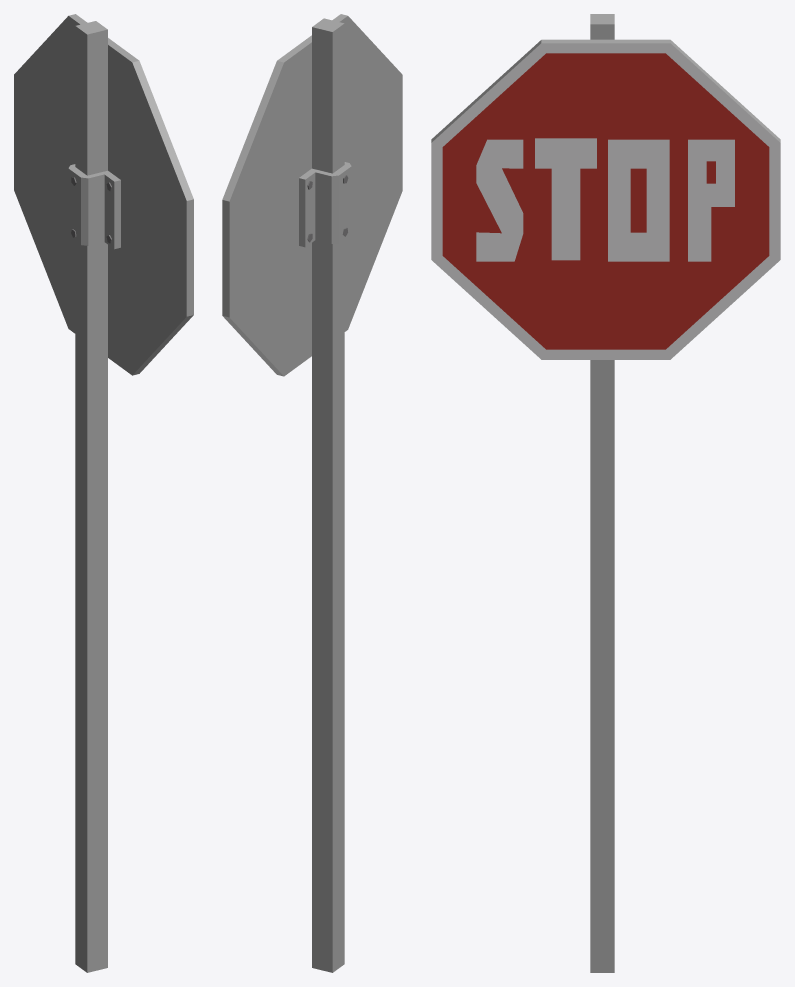
File: SM_road_sign_2.gltf
3 renders of one model, left to right at view 1: azimuth 30°, elevation 25°; view 2: azimuth 150°, elevation 25°; view 3: azimuth 270°, elevation 25°, orthographic.
Visible parts, largest first — view 1: SM_road_sign_2; view 2: SM_road_sign_2; view 3: SM_road_sign_2.
Part boxes in pixels (left/top/right/bottom): SM_road_sign_2: left=14, top=14, right=193, bottom=972; SM_road_sign_2: left=222, top=14, right=402, bottom=972; SM_road_sign_2: left=431, top=14, right=780, bottom=972.
Bounding box in the file's own units: 0.0825 × 2.05 × 0.683.
1 material, 1 textured.
